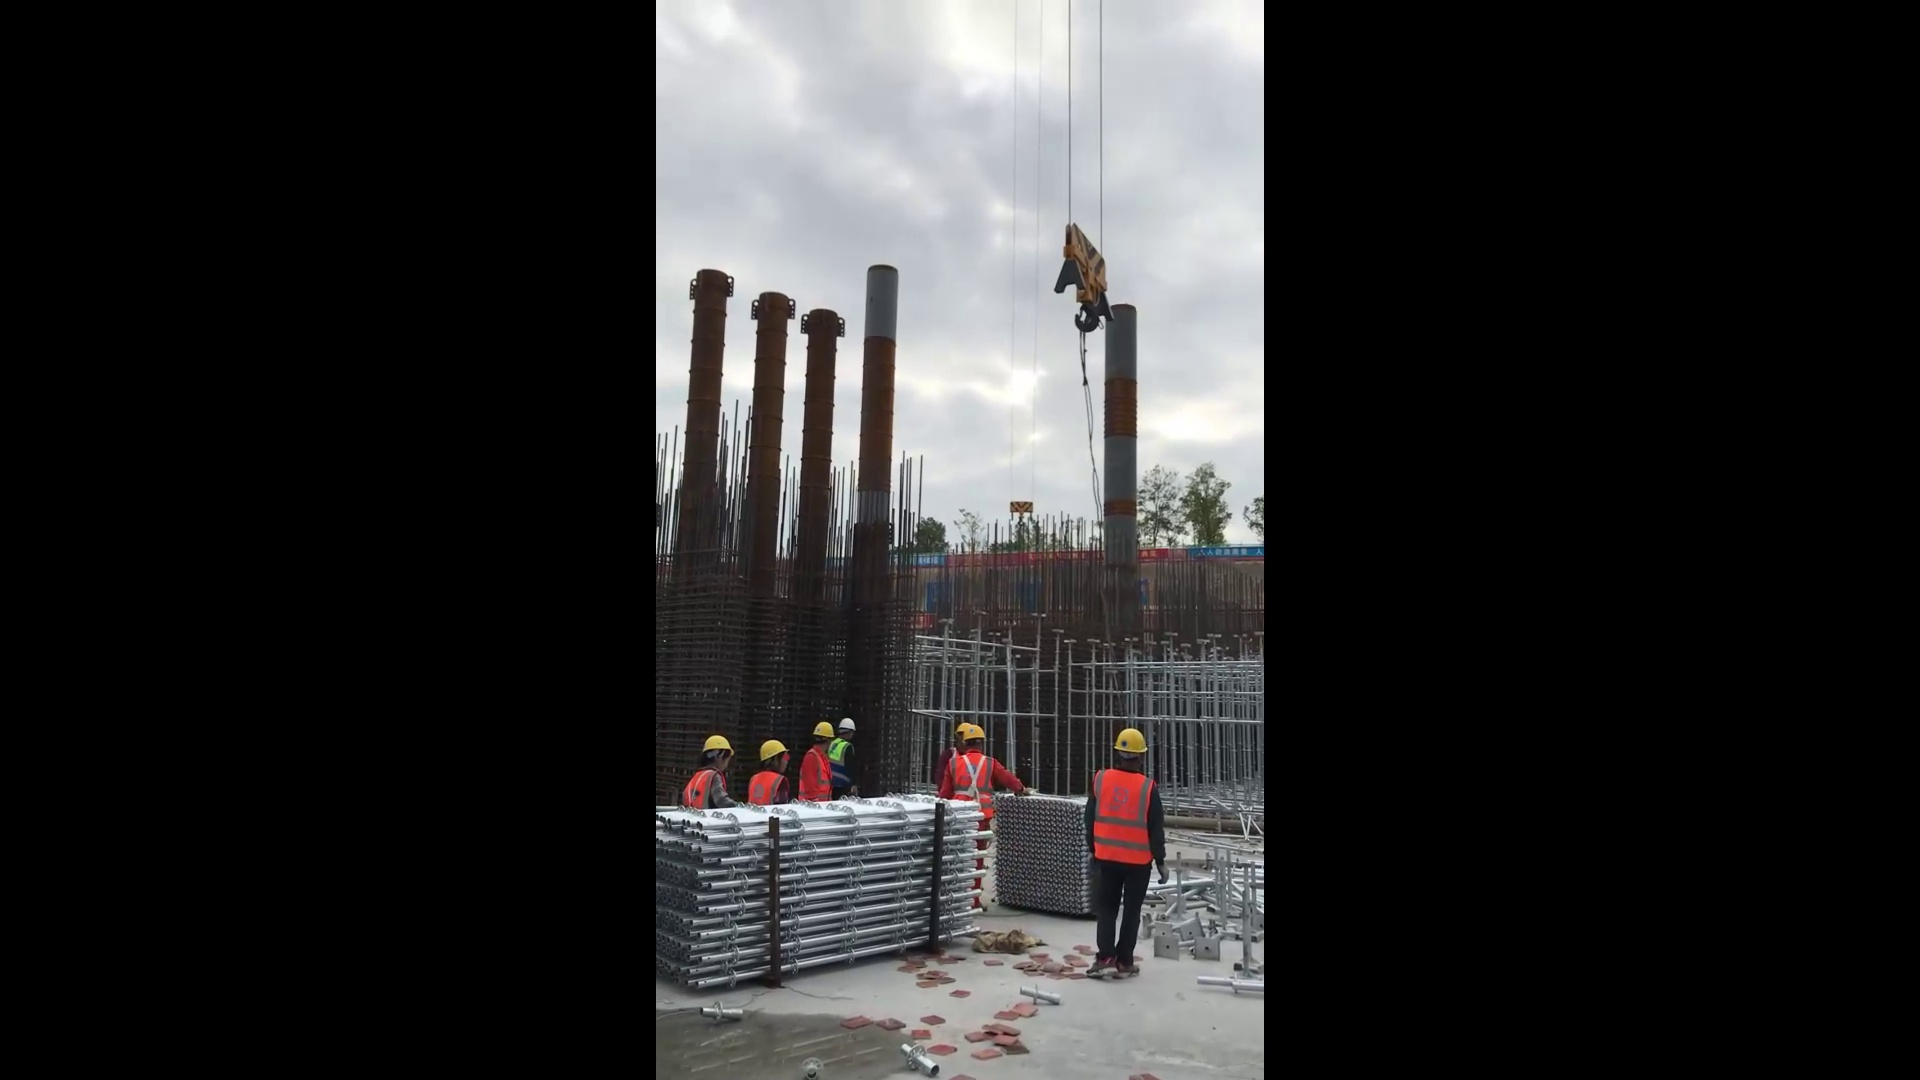helmet: (1112, 728, 1154, 755), (956, 719, 991, 748), (700, 733, 735, 758), (759, 737, 788, 762), (812, 718, 836, 745), (837, 716, 857, 735)
hook: (1050, 221, 1129, 338)
person: (1074, 727, 1171, 979), (934, 715, 1031, 912), (682, 728, 738, 812), (797, 716, 837, 805), (745, 736, 792, 810), (829, 717, 862, 799)
scaffold: (653, 781, 981, 997)
slogan: (1196, 544, 1266, 562)
vest: (1090, 762, 1159, 872), (949, 753, 996, 817), (684, 770, 734, 808), (799, 746, 830, 803), (746, 769, 788, 806), (830, 741, 850, 785)
